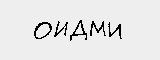Д: (69, 19, 88, 41)
И: (105, 21, 123, 40), (53, 19, 69, 39)
М: (88, 19, 108, 39)
О: (30, 19, 51, 40)
